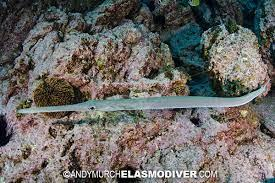Fistularia commersonii: (22, 76, 271, 122)
